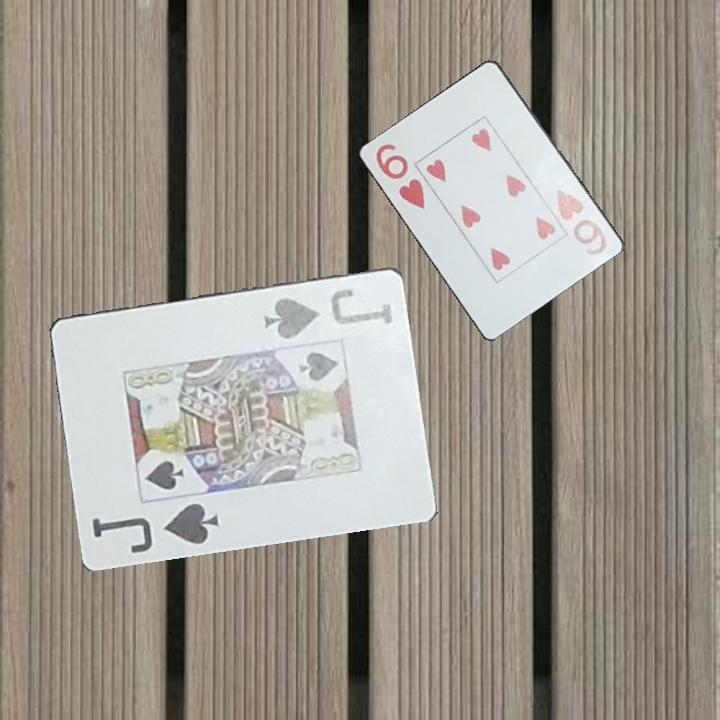6h: (552, 183, 614, 259), (372, 140, 428, 212)
Js: (261, 284, 398, 342), (89, 499, 223, 556)
